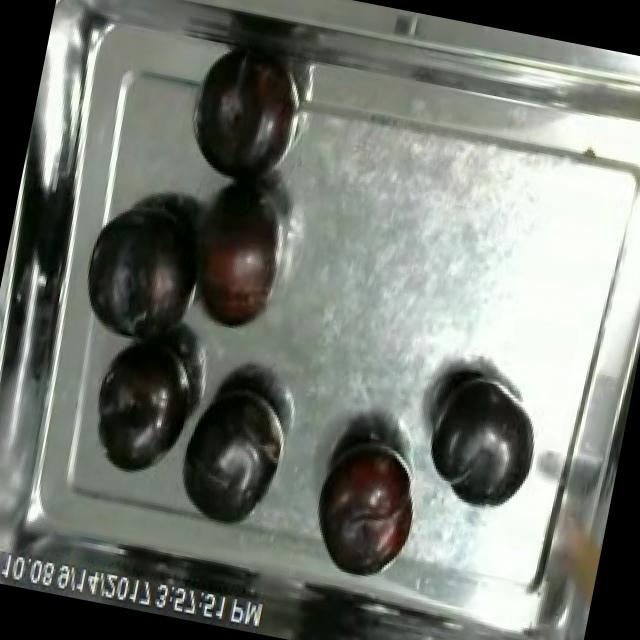Fruit: (160, 364, 301, 546), (72, 189, 219, 361), (409, 358, 553, 524), (76, 321, 212, 493), (178, 39, 318, 200), (297, 428, 433, 592), (172, 175, 298, 343)
